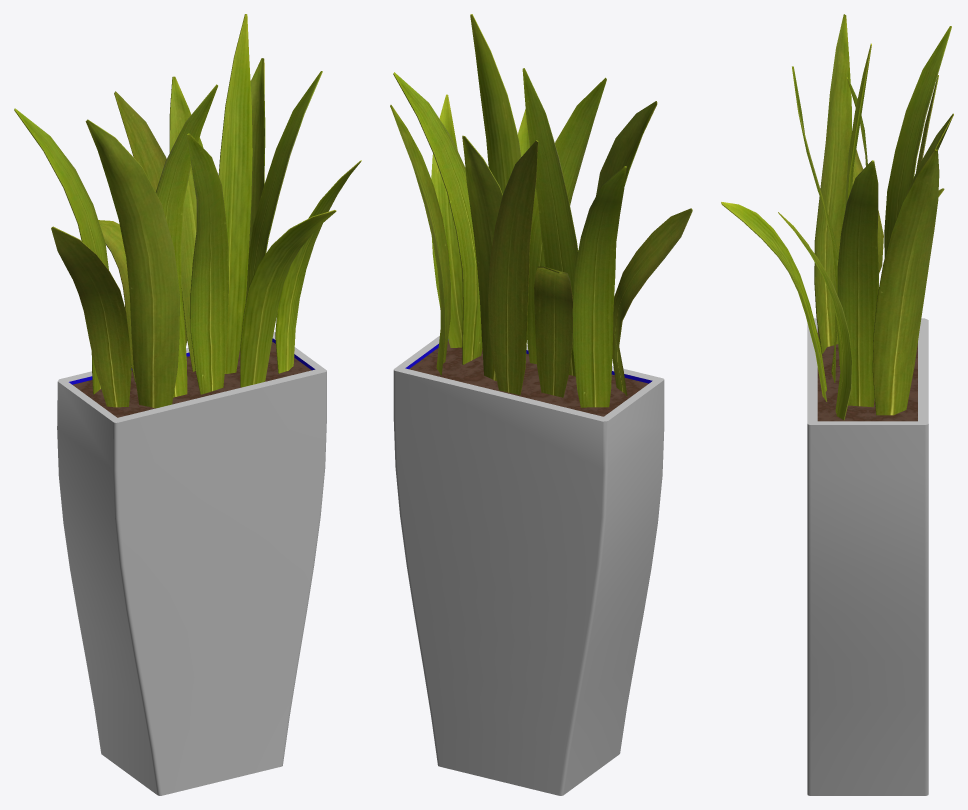
Rendered from VaseFloor05_2.FBX.
3 renders of one model, left to right at view 1: azimuth 30°, elevation 25°; view 2: azimuth 150°, elevation 25°; view 3: azimuth 270°, elevation 25°, orthographic. The views are drawn at different scales.
Parts seen in each view (by area): view 1: VaseFloor05_2; view 2: VaseFloor05_2; view 3: VaseFloor05_2.
Part boxes in pixels (<box>): VaseFloor05_2: <box>14,14,361,795</box>; VaseFloor05_2: <box>390,14,692,795</box>; VaseFloor05_2: <box>721,14,953,795</box>.
Size of the model in its own units: 87.39 by 214 by 60.42.
